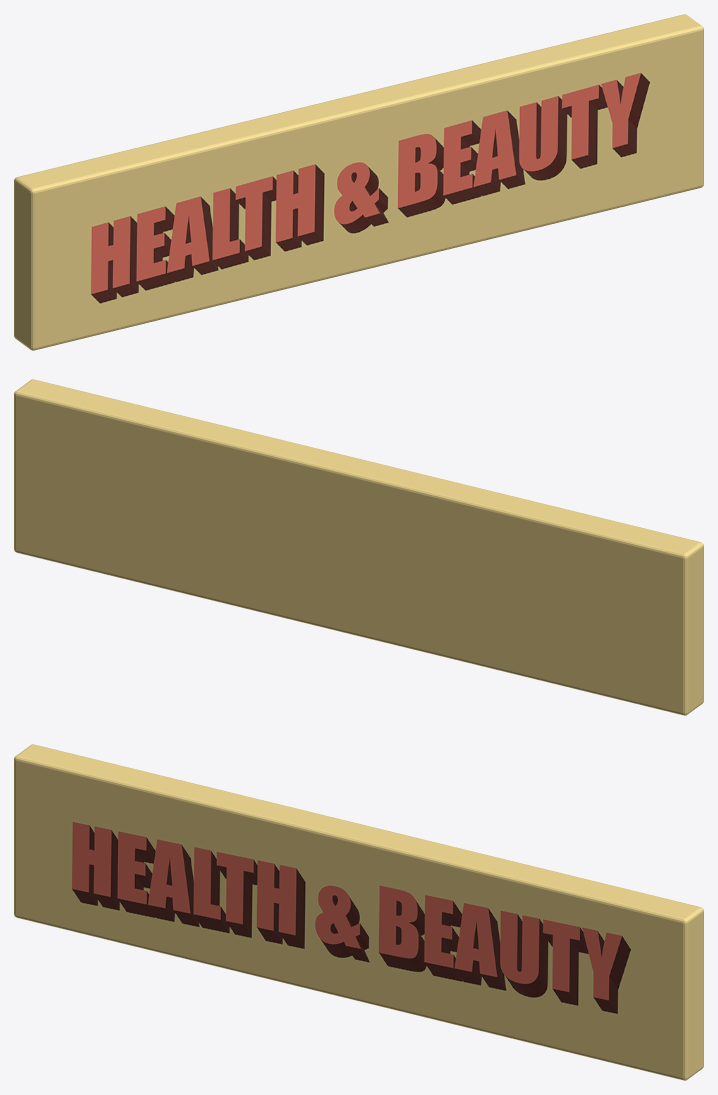
The model's file is healthBeauty.fbx.
3 views of the same model, one above another, from view 1: azimuth 30°, elevation 25°; view 2: azimuth 150°, elevation 25°; view 3: azimuth 330°, elevation 25° (orthographic).
Visible parts, largest first — view 1: healtBeauty; view 2: healtBeauty; view 3: healtBeauty.
Part boxes in pixels (box(x1,y1,x2,y2)): healtBeauty: box(14, 14, 703, 350); healtBeauty: box(14, 379, 703, 715); healtBeauty: box(14, 744, 703, 1080).
Size of the model in its own units: 102 by 23.5 by 5.
1 material, 1 textured.
